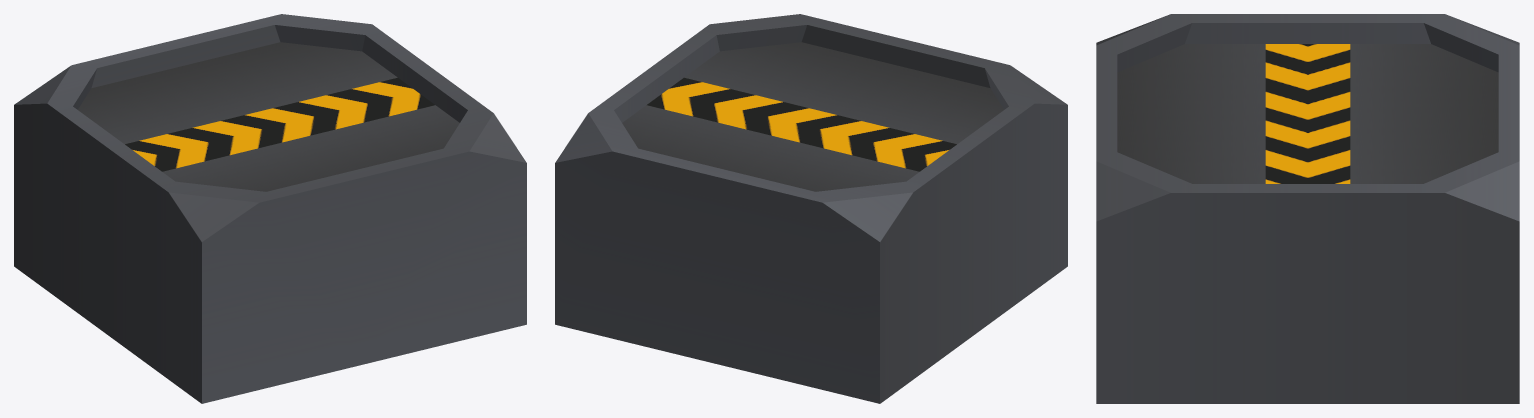
Rendered from Trap.fbx.
3 renders of one model, left to right at view 1: azimuth 30°, elevation 25°; view 2: azimuth 150°, elevation 25°; view 3: azimuth 270°, elevation 25°, orthographic. The views are drawn at different scales.
Visible parts, largest first — view 1: ventilation.001, Trap_Low.004, Trap_Low.003, Trap_Low.013, Trap_Low.005, Trap_Low.007, Trap_Low.006, Trap_Low.008, Trap_Low.014, Trap_Low.009, Trap_Low.015, Trap_Low.010 (+5 smaller); view 2: ventilation.001, Trap_Low.003, Trap_Low.004, Trap_Low.005, Trap_Low.013, Trap_Low.015, Trap_Low.014, Trap_Low.016, Trap_Low.006, Trap_Low.017, Trap_Low.007, Trap_Low.018 (+5 smaller); view 3: ventilation.001, Trap_Low.003, Trap_Low.004, Trap_Low.005, Trap_Low.013, Trap_Low.006, Trap_Low.014, Trap_Low.007, Trap_Low.008, Trap_Low.015, Trap_Low.016, Trap_Low.009 (+7 smaller).
Boxes of the visible parts, bbox=[...] form: ventilation.001: bbox=[14, 14, 526, 403]; Trap_Low.004: bbox=[125, 77, 416, 157]; Trap_Low.003: bbox=[144, 91, 434, 171]; Trap_Low.013: bbox=[162, 105, 444, 178]; Trap_Low.005: bbox=[115, 70, 397, 144]; Trap_Low.007: bbox=[100, 59, 379, 131]; Trap_Low.006: bbox=[108, 65, 387, 137]; Trap_Low.008: bbox=[92, 53, 372, 125]; Trap_Low.014: bbox=[172, 112, 452, 182]; Trap_Low.009: bbox=[84, 50, 364, 119]; Trap_Low.015: bbox=[186, 118, 459, 185]; Trap_Low.010: bbox=[78, 47, 347, 114]; ventilation.001: bbox=[555, 14, 1067, 403]; Trap_Low.003: bbox=[665, 77, 956, 157]; Trap_Low.004: bbox=[647, 91, 937, 171]; Trap_Low.005: bbox=[637, 105, 919, 178]; Trap_Low.013: bbox=[684, 70, 966, 144]; Trap_Low.015: bbox=[702, 59, 981, 131]; Trap_Low.014: bbox=[694, 65, 973, 137]; Trap_Low.016: bbox=[709, 53, 989, 125]; Trap_Low.006: bbox=[629, 112, 909, 182]; Trap_Low.017: bbox=[717, 50, 997, 119]; Trap_Low.007: bbox=[622, 118, 895, 185]; Trap_Low.018: bbox=[734, 47, 1003, 114]; ventilation.001: bbox=[1096, 14, 1519, 403]; Trap_Low.003: bbox=[1265, 44, 1307, 183]; Trap_Low.004: bbox=[1308, 44, 1350, 183]; Trap_Low.005: bbox=[1350, 44, 1371, 183]; Trap_Low.013: bbox=[1244, 44, 1265, 183]; Trap_Low.006: bbox=[1371, 44, 1389, 183]; Trap_Low.014: bbox=[1226, 44, 1244, 183]; Trap_Low.007: bbox=[1389, 44, 1406, 183]; Trap_Low.008: bbox=[1407, 44, 1424, 183]; Trap_Low.015: bbox=[1209, 44, 1226, 183]; Trap_Low.016: bbox=[1191, 44, 1208, 183]; Trap_Low.009: bbox=[1424, 44, 1441, 183].
Bounding box in the file's own units: 200 × 110 × 200.
Materials: 2 (2 with a texture image).
